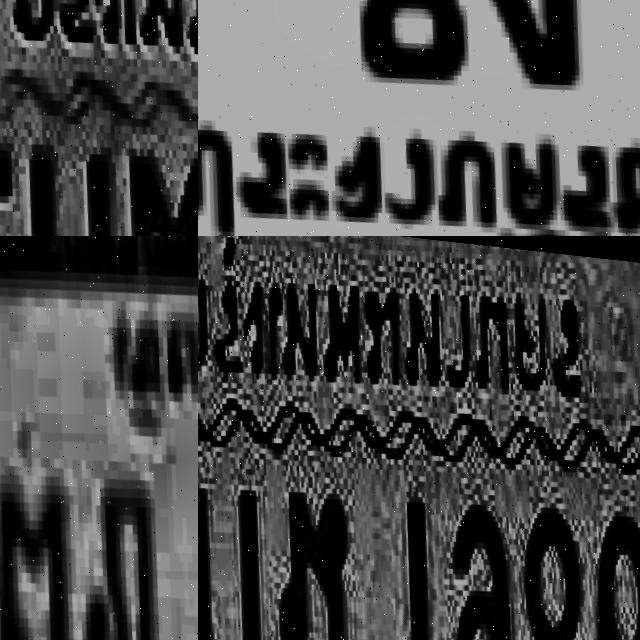license-plate: (198, 236, 640, 640), (198, 0, 640, 236), (0, 236, 198, 640), (0, 0, 198, 236)
